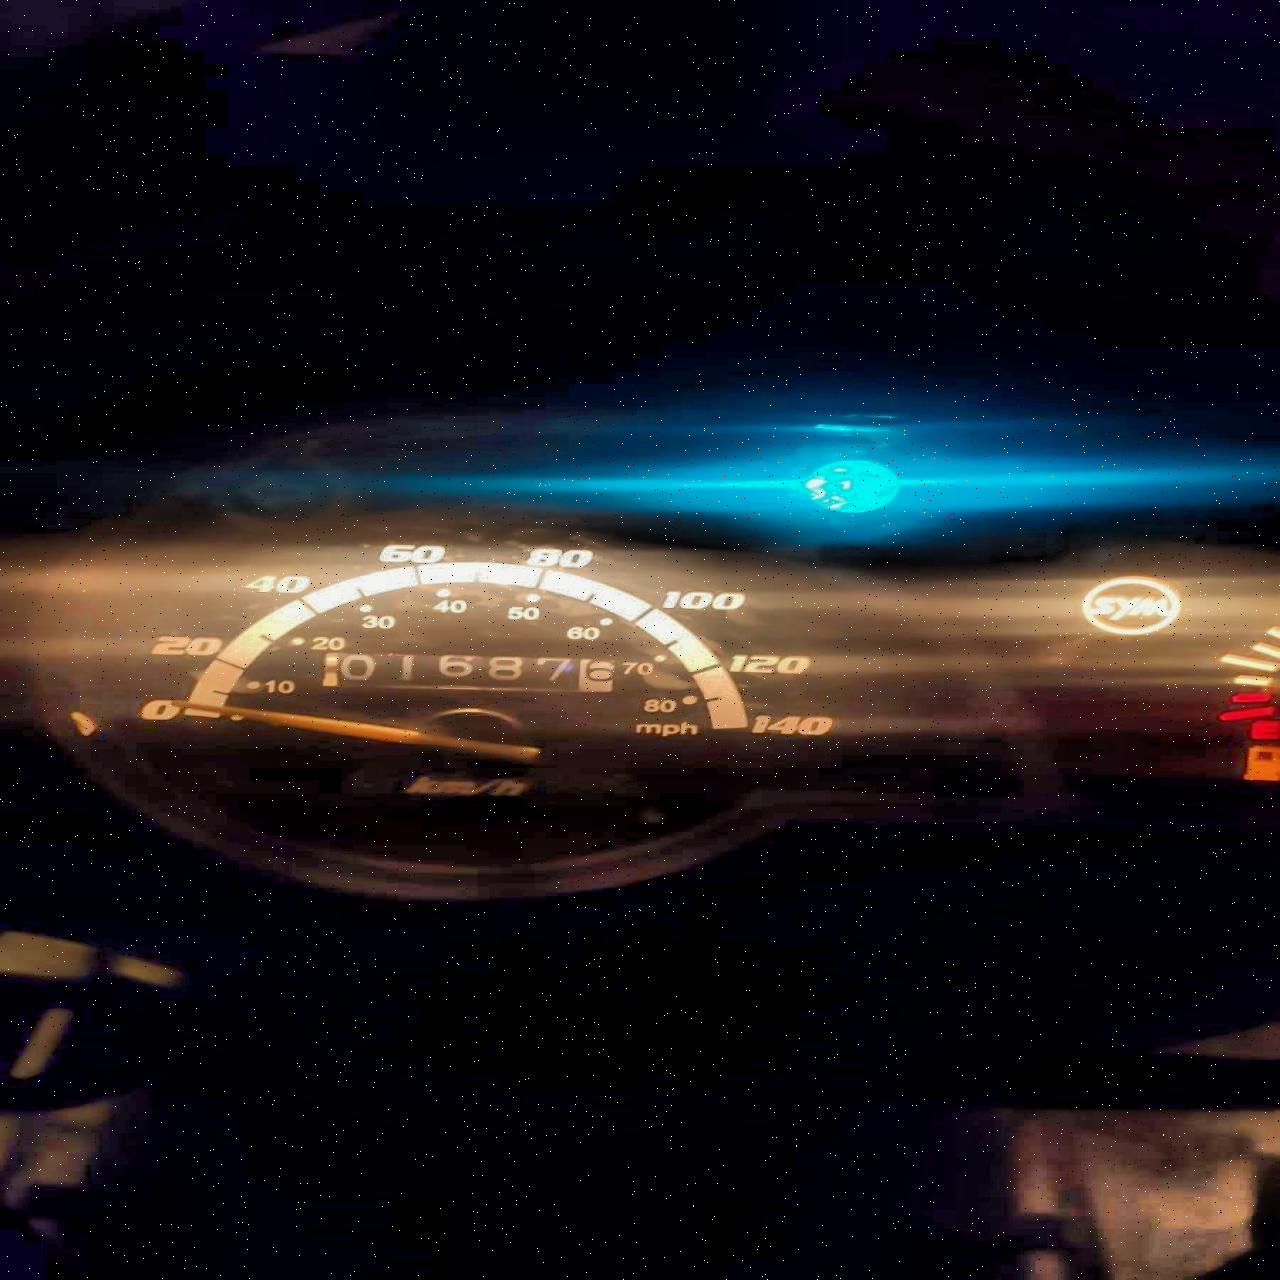0: (335, 652, 380, 681)
1: (393, 652, 421, 685)
6: (435, 652, 479, 676), (583, 656, 617, 685)
7: (532, 655, 570, 679)
8: (486, 654, 524, 681)
odometer: (306, 648, 622, 696)
